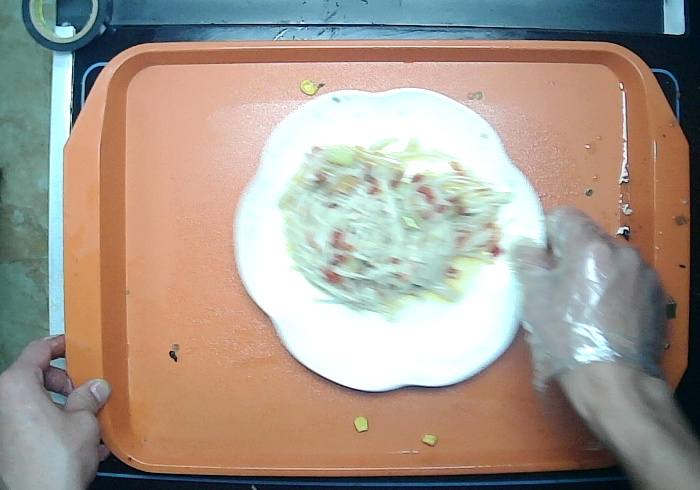HZYJPL-Bai_Se_Hua_Duo_Wan: (230, 82, 547, 393)
